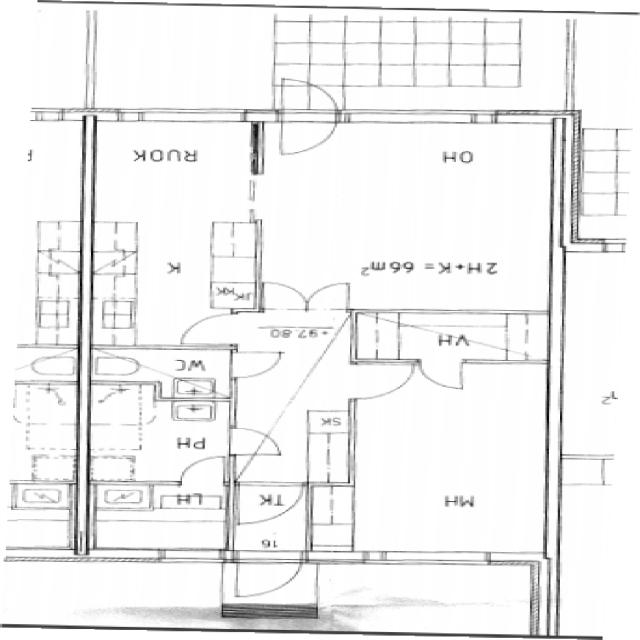door: (353, 313, 553, 365), (272, 79, 344, 158), (229, 550, 308, 601), (231, 481, 310, 529), (349, 360, 419, 401), (174, 311, 240, 350), (221, 422, 281, 462), (172, 452, 232, 488), (256, 278, 313, 315), (226, 347, 288, 381), (300, 279, 358, 314), (416, 360, 468, 394)
window: (344, 107, 515, 128), (108, 104, 252, 127), (365, 550, 495, 570), (154, 547, 228, 567)
zone: (254, 118, 572, 312), (90, 114, 259, 344), (85, 390, 234, 484), (85, 482, 234, 558), (353, 313, 549, 364), (90, 348, 242, 398), (6, 382, 80, 482), (3, 507, 78, 554), (7, 483, 76, 514), (208, 281, 262, 313)
